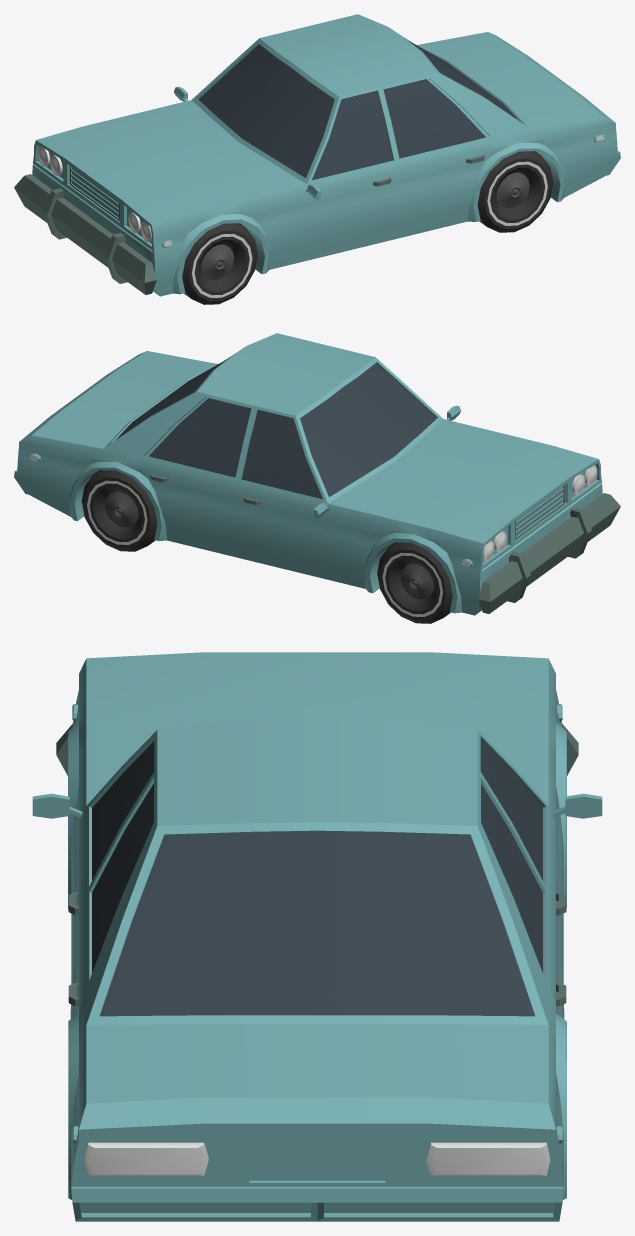
File: defGoodCar.fbx
3 renders of one model, top to bottom at view 1: azimuth 30°, elevation 25°; view 2: azimuth 150°, elevation 25°; view 3: azimuth 270°, elevation 25°, orthographic. The views are drawn at different scales.
Visible parts, largest first — view 1: car9, whell.005; view 2: car9, whell.005; view 3: car9.
Part boxes in pixels (x1=…): car9: x1=14, y1=14, x2=620, y2=296; whell.005: x1=182, y1=151, x2=553, y2=304; car9: x1=14, y1=333, x2=620, y2=615; whell.005: x1=81, y1=470, x2=452, y2=623; car9: x1=32, y1=652, x2=602, y2=1221.
Bounding box in the file's own units: 413 × 135 × 211.
